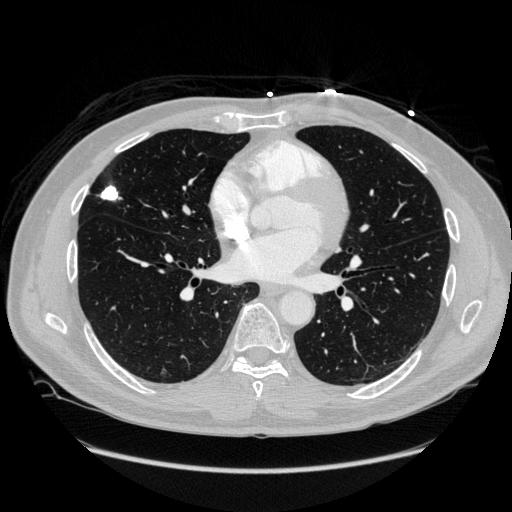nodule: (99, 184, 119, 204)
